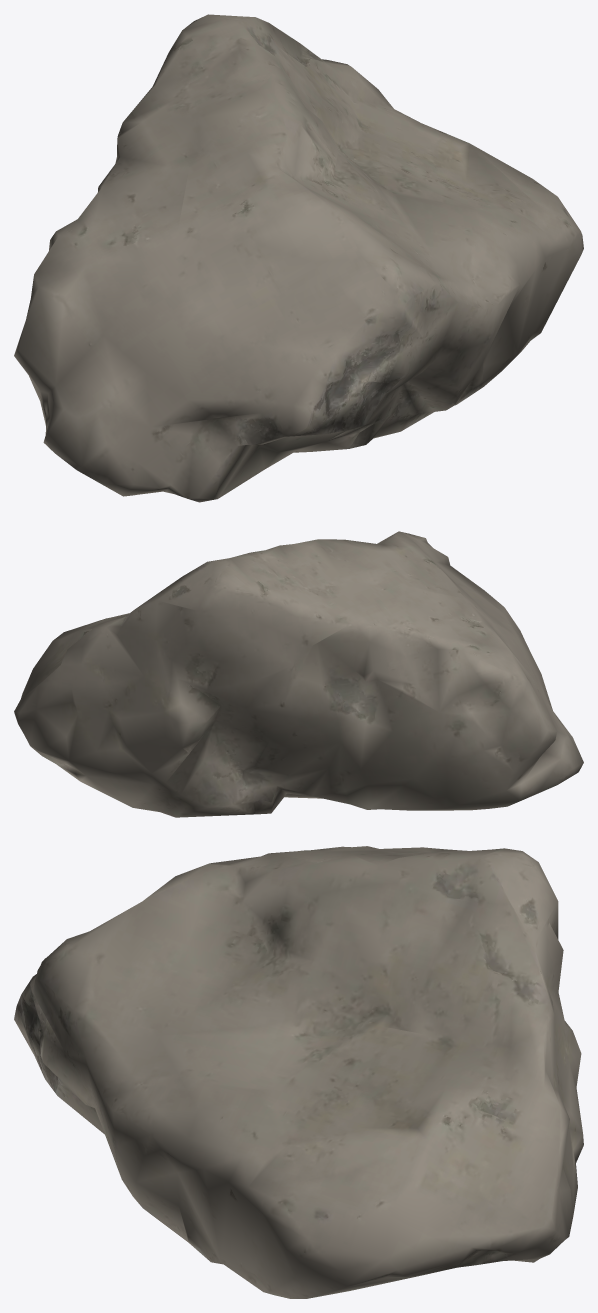
File: moon_rock_03.glb
3 renders of one model, top to bottom at view 1: azimuth 30°, elevation 25°; view 2: azimuth 150°, elevation 25°; view 3: azimuth 270°, elevation 25°, orthographic. The views are drawn at different scales.
Parts seen in each view (by area): view 1: moon_rock_03_LOD0; view 2: moon_rock_03_LOD0; view 3: moon_rock_03_LOD0.
Boxes of the visible parts, box(x1,y1,x2,y2) form: moon_rock_03_LOD0: box(14, 14, 583, 502); moon_rock_03_LOD0: box(14, 531, 583, 817); moon_rock_03_LOD0: box(14, 846, 583, 1298).
Bounding box in the file's own units: 0.112 × 0.0582 × 0.0861.
Materials: 1 (1 with a texture image).
